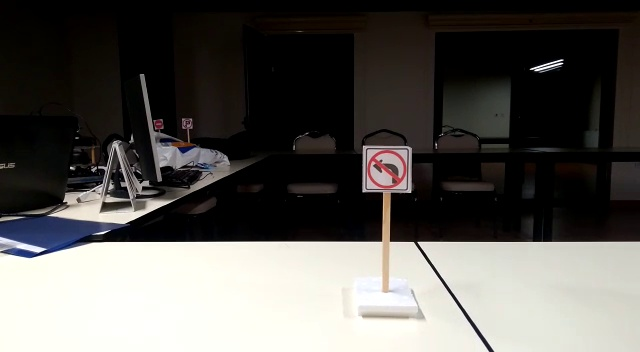sola_donulmez: (362, 147, 410, 191)
